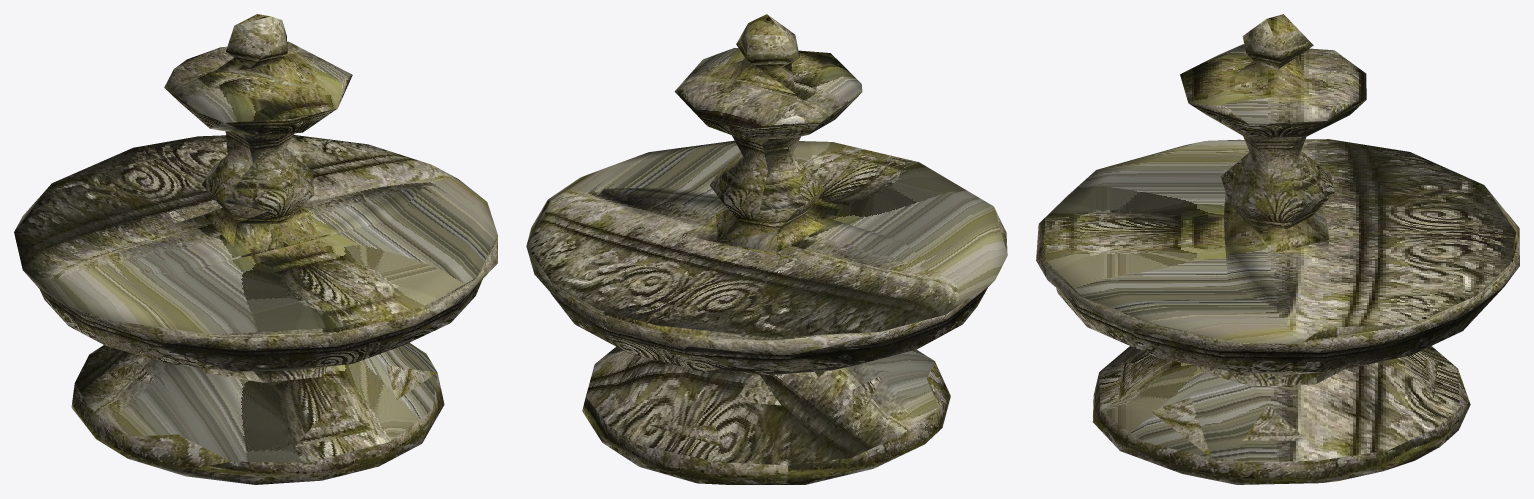
The model's file is fountain_med.glb.
3 renders of one model, left to right at view 1: azimuth 30°, elevation 25°; view 2: azimuth 150°, elevation 25°; view 3: azimuth 270°, elevation 25°, orthographic.
Parts seen in each view (by area): view 1: fountain_med; view 2: fountain_med; view 3: fountain_med.
Part boxes in pixels (<box>): fountain_med: <box>14,14,497,484</box>; fountain_med: <box>526,14,1007,484</box>; fountain_med: <box>1036,14,1519,484</box>.
Size of the model in its own units: 2.58 by 2.4 by 2.57.
1 material, 1 textured.
